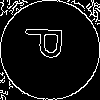P: (25, 25, 72, 61)
